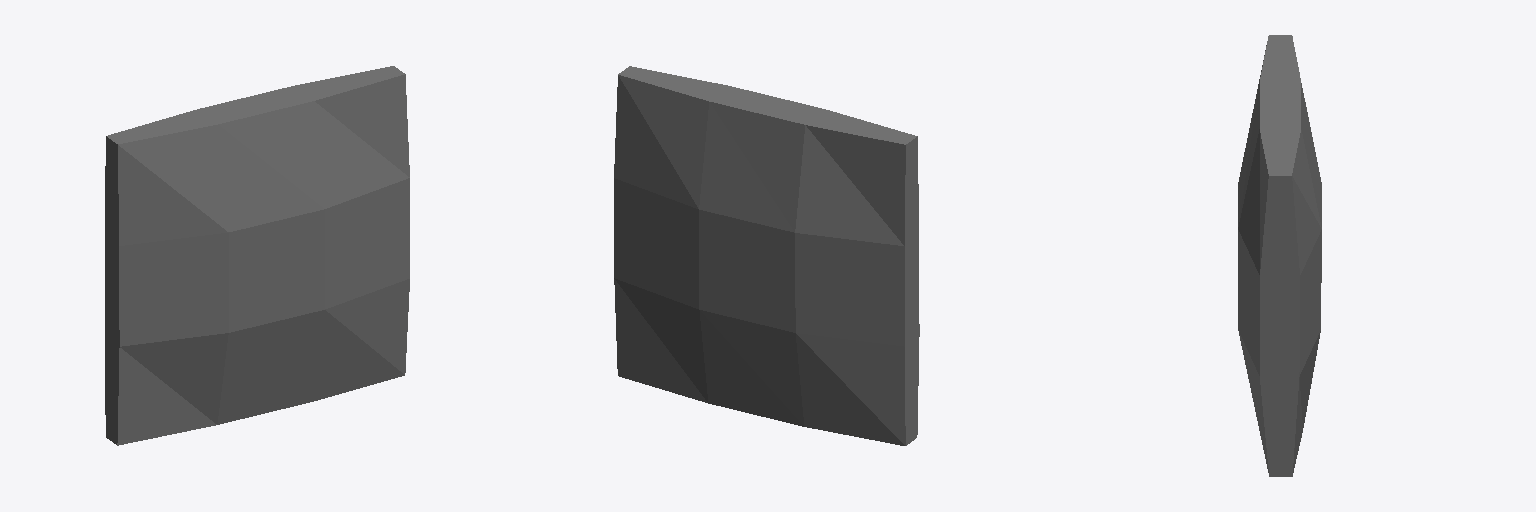
File: EasterEgg2.obj
3 views of the same model, side by side, from view 1: azimuth 30°, elevation 25°; view 2: azimuth 150°, elevation 25°; view 3: azimuth 270°, elevation 25° (orthographic).
Visible parts, largest first — view 1: pCube1; view 2: pCube1; view 3: pCube1.
Boxes of the visible parts, <box> form: pCube1: <box>105,66,409,445</box>; pCube1: <box>614,66,919,445</box>; pCube1: <box>1238,35,1321,476</box>.
Size of the model in its own units: 1.21 by 1.21 by 0.3048.